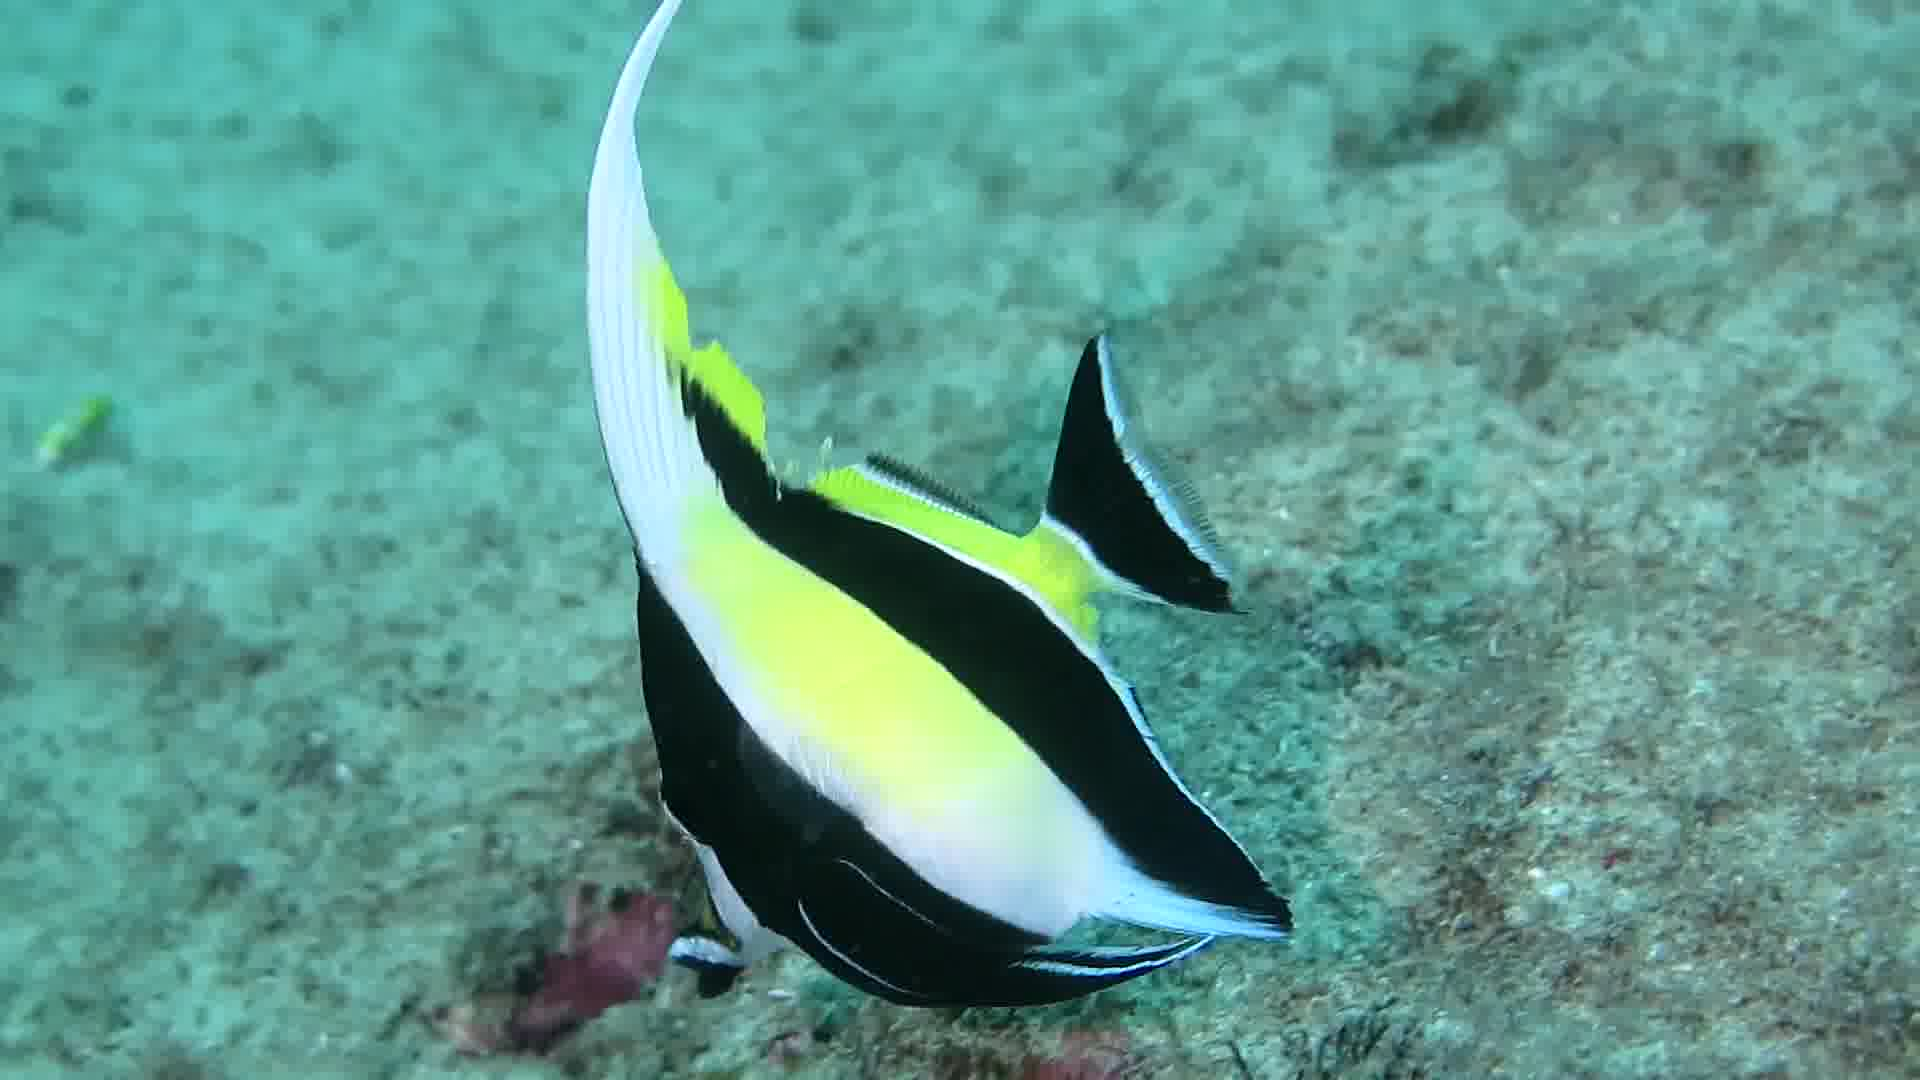Zanclus cornutus: (547, 243, 1317, 1010)
